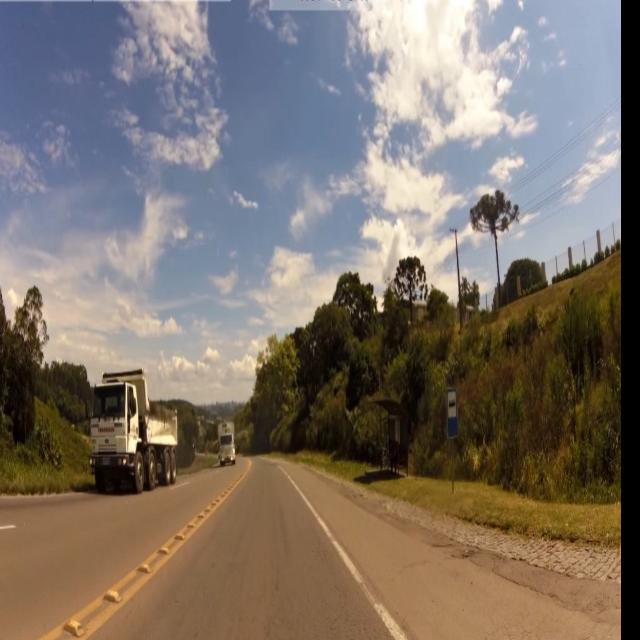S-14: (446, 389, 461, 448)
